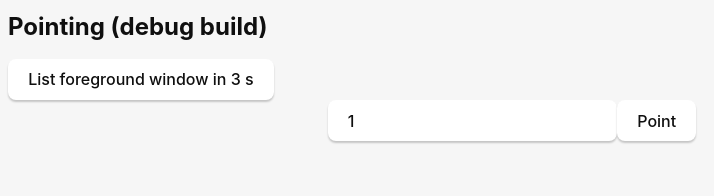
Test: PointingDebugPanel › shows why a listing failed
The image size is (714, 196).
Click the button "List foreground window in 3 s": (141, 79) x1=8 y1=59 x2=274 y2=100
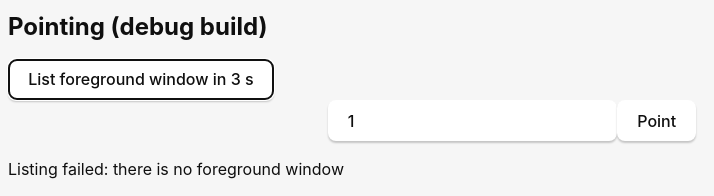
Now the text "Listing failed: there is no foreground window" is shown, box x1=8 y1=159 x2=344 y2=179
